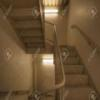stairs: (65, 46, 100, 96)
